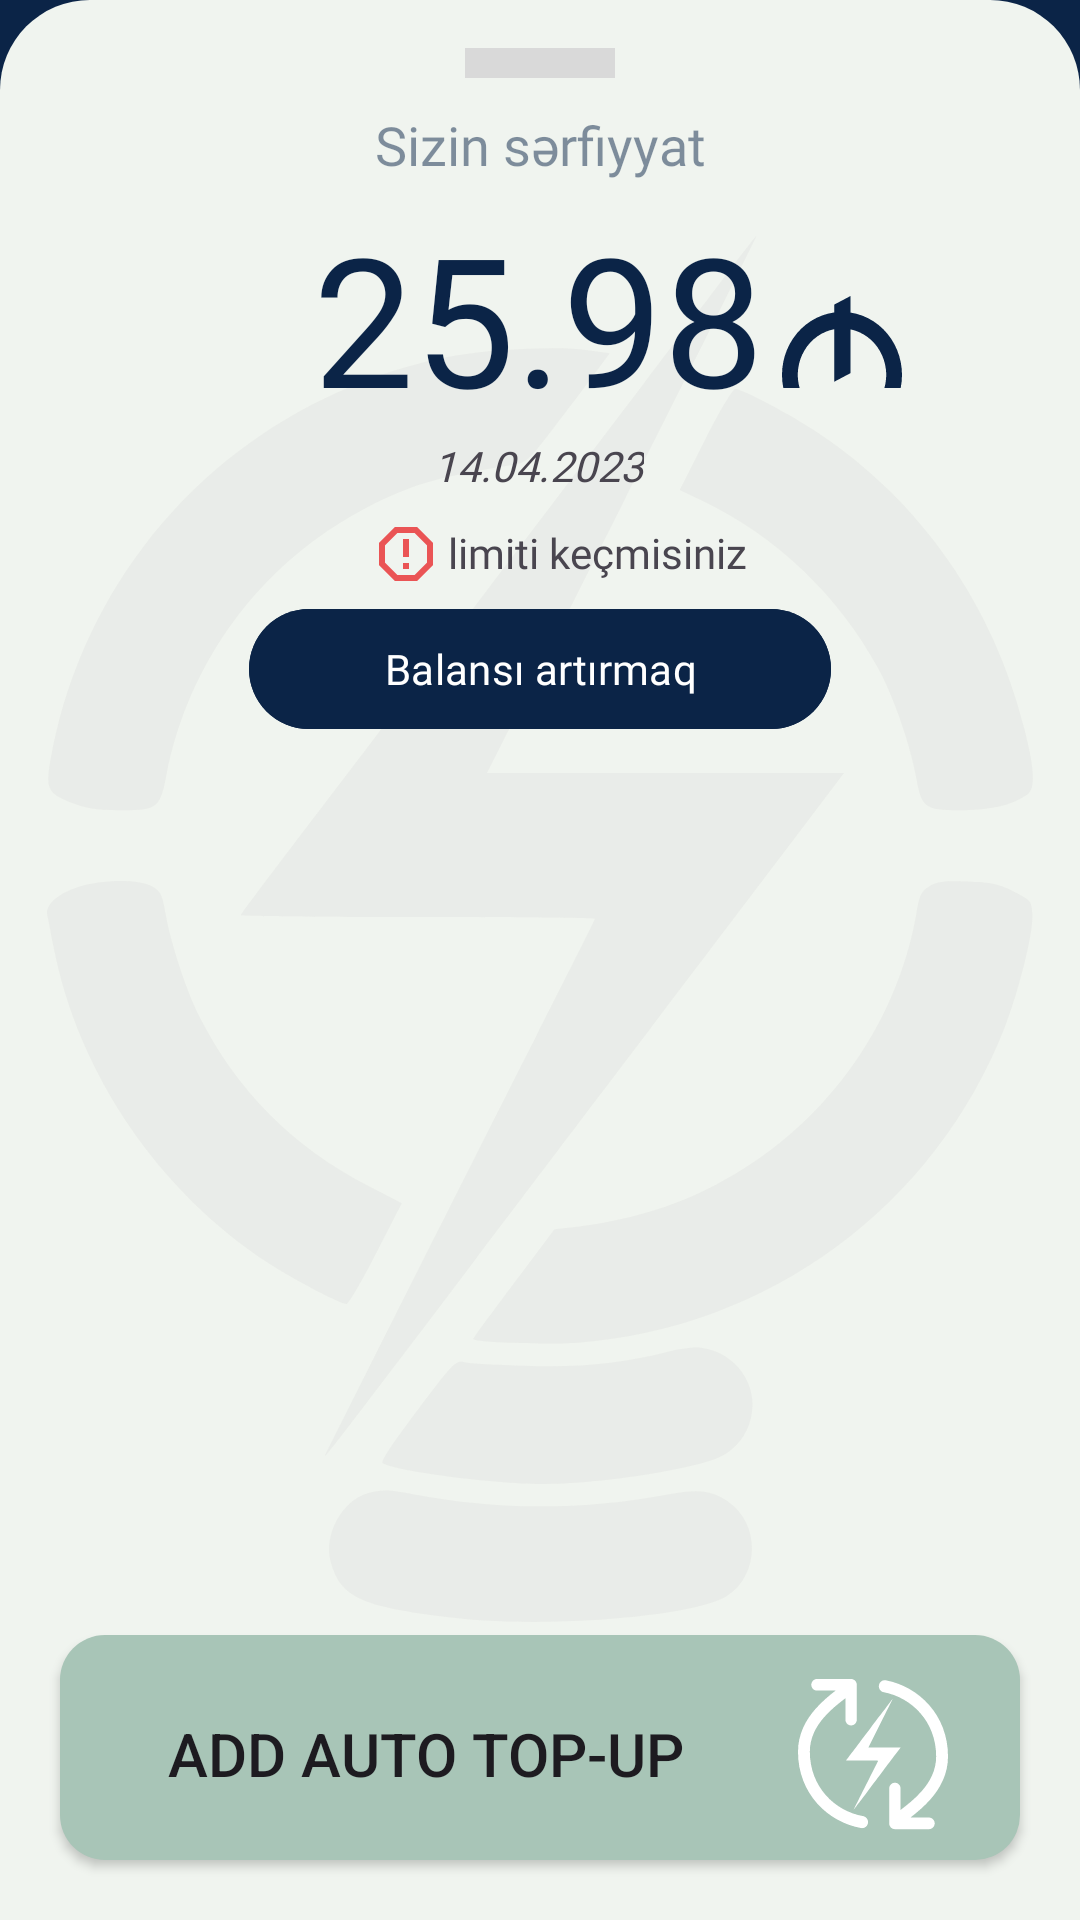

Named icons in this screenshot (1080w x 1920h) and their centers, (x,y):
azn: (842,342)
danger: (406,554)
